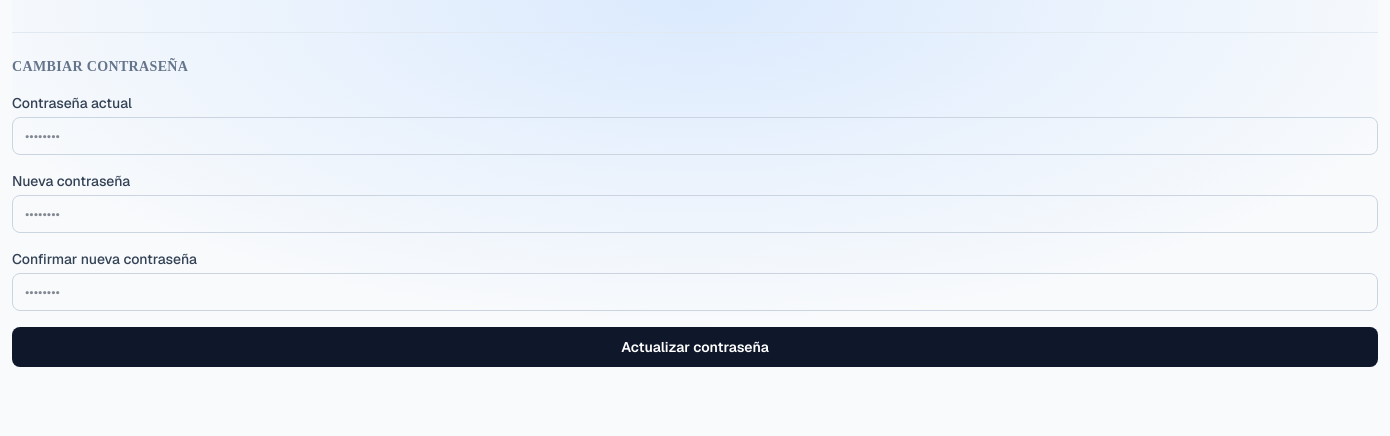
Test: Cambio de contraseña › muestra el error del backend cuando la contraseña actual es incorrecta
This screenshot has width=1390, height=436.
In the password field labelled "Contraseña actual": {"x": 695, "y": 136} 12,117 -> 1378,155, type "WrongPassword123!"
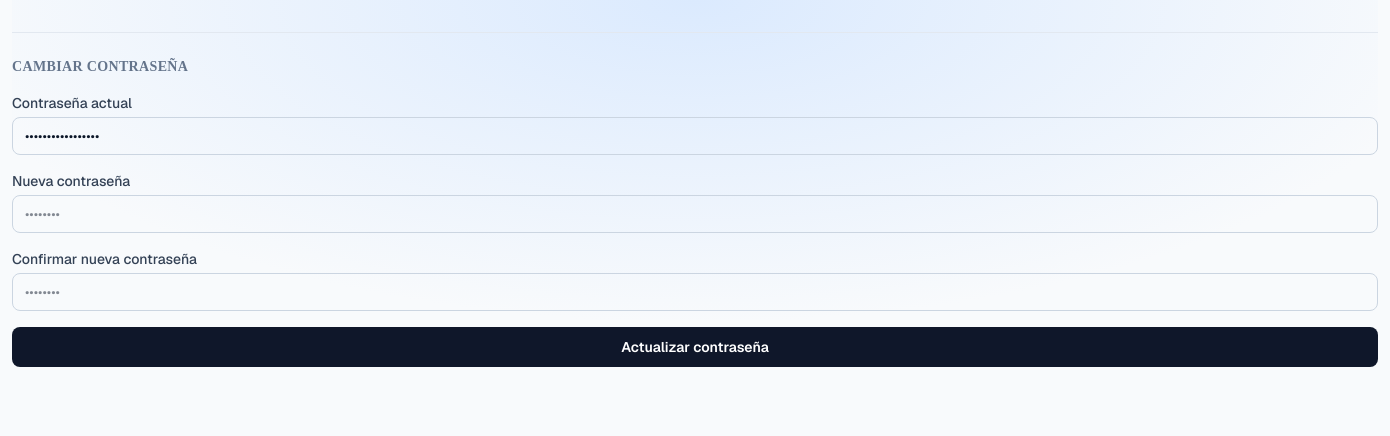
In the password field labelled "Nueva contraseña": {"x": 695, "y": 214} 12,195 -> 1378,233, type "NewPassword123!"
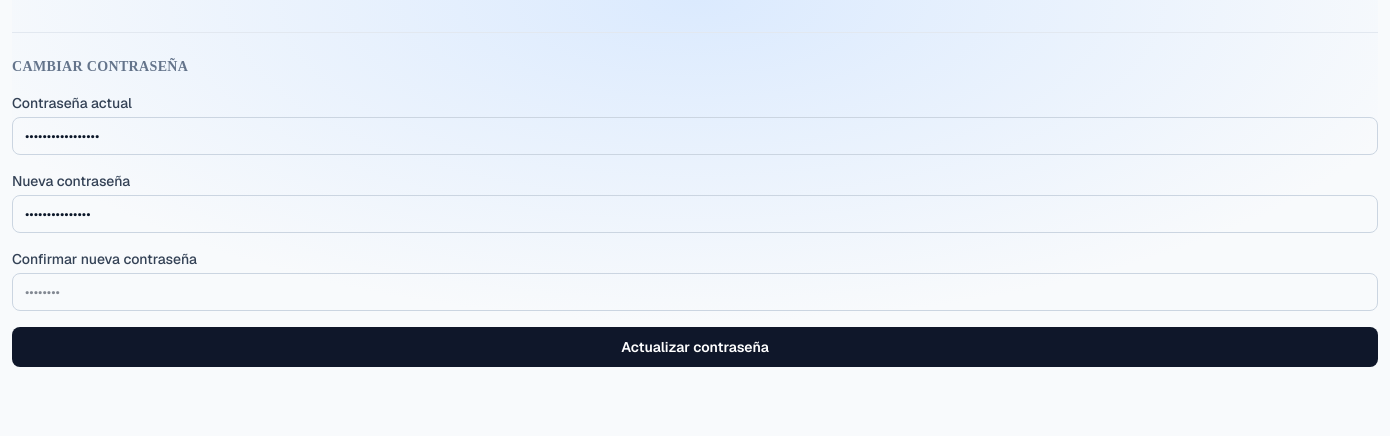
In the password field labelled "Confirmar nueva contraseña": {"x": 695, "y": 292} 12,273 -> 1378,311, type "NewPassword123!"
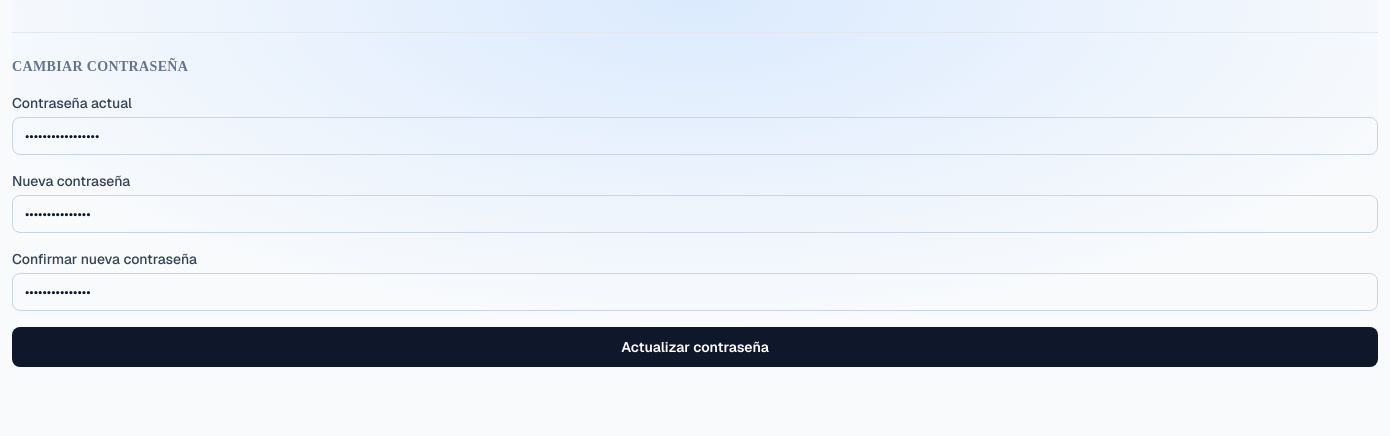
Click the button "Actualizar contraseña": {"x": 695, "y": 347} 12,327 -> 1378,367
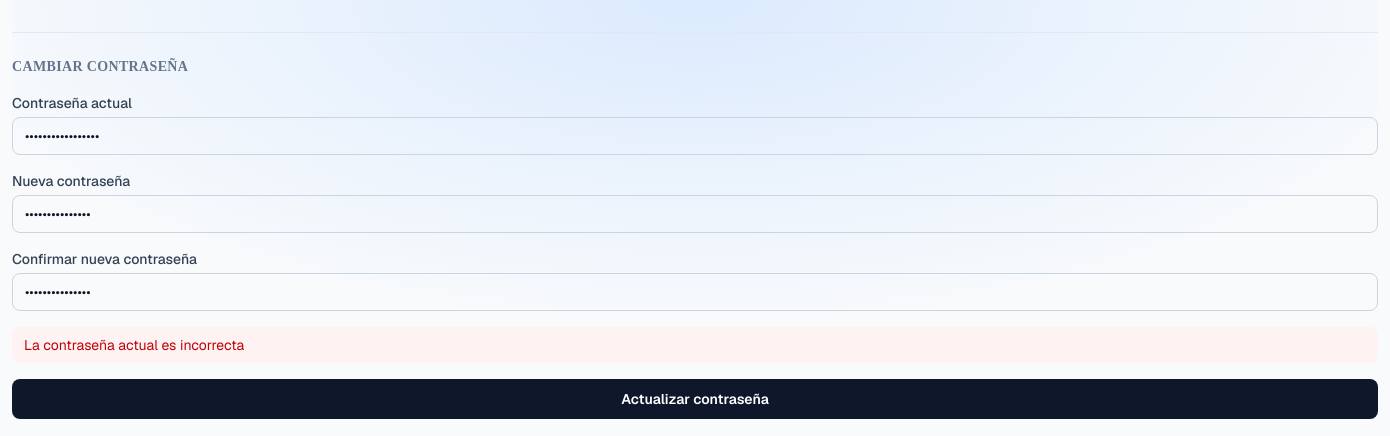
Now the text "La contraseña actual es incorrecta" is shown, box 12,327 -> 1378,363
